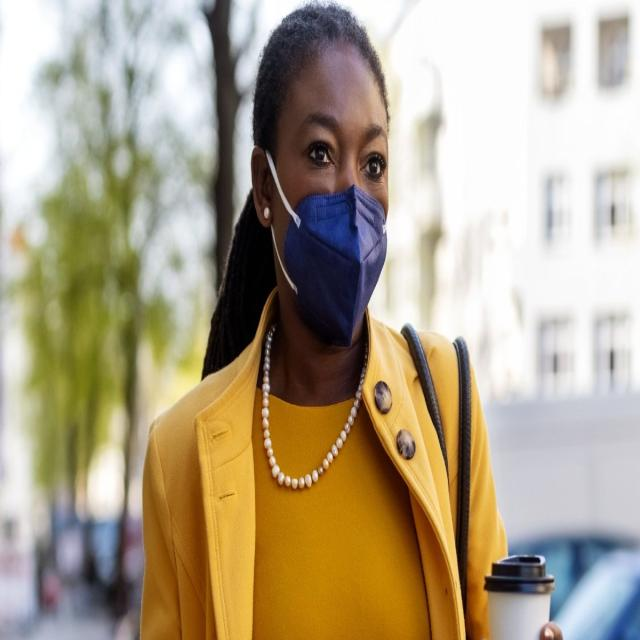1_mascarilla: (263, 148, 388, 348)
